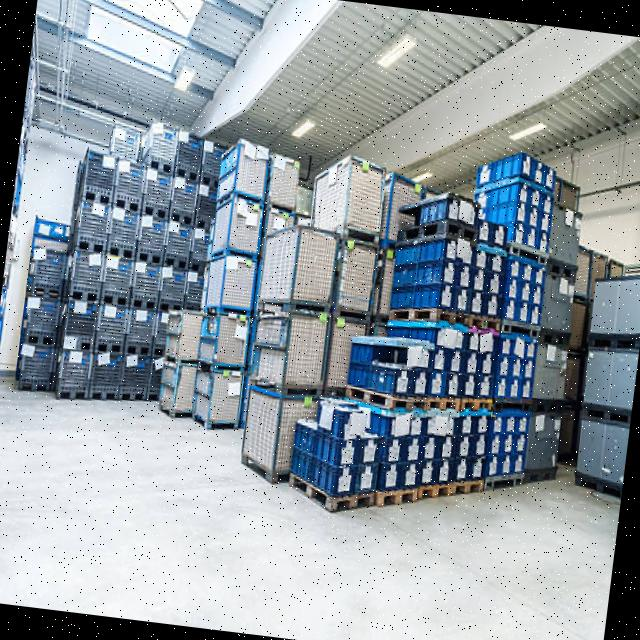Wooden-Pallets: (288, 465, 380, 518), (380, 298, 474, 339), (411, 469, 452, 513), (378, 473, 419, 514), (447, 471, 486, 504), (425, 392, 461, 423), (460, 391, 497, 421)
